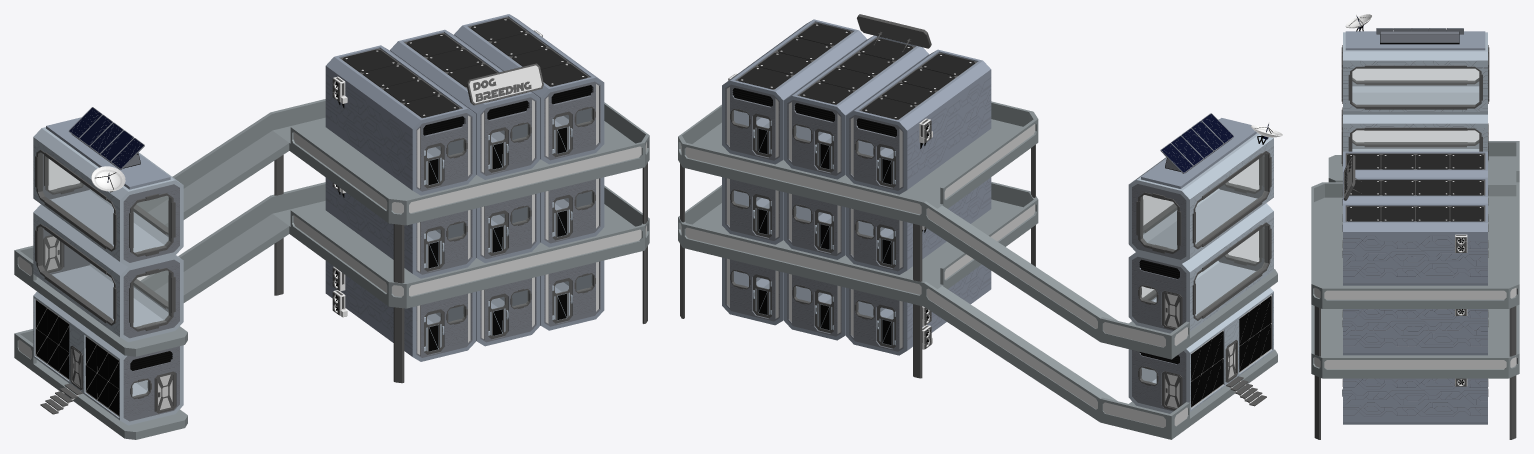
File: Breeding level 3.fbx
The picture shows the model from 3 angles, left to right: view 1: azimuth 30°, elevation 25°; view 2: azimuth 150°, elevation 25°; view 3: azimuth 270°, elevation 25°; orthographic projection. The views are drawn at different scales.
Parts seen in each view (by area): view 1: Breeding level 3, Breeding level 3.031, Breeding level 3.032, Breeding level 3.033, Breeding level 3.024, Breeding level 3.008, Breeding level 3.007, Breeding level 3.009, Breeding level 3.001, Breeding level 3.005, Breeding level 3.002, Breeding level 3.004 (+7 smaller); view 2: Breeding level 3, Breeding level 3.031, Breeding level 3.020, Breeding level 3.012, Breeding level 3.010, Breeding level 3.011, Breeding level 3.032, Breeding level 3.021, Breeding level 3.018, Breeding level 3.015, Breeding level 3.017, Breeding level 3.016 (+7 smaller); view 3: Breeding level 3, Breeding level 3.034, Breeding level 3.036, Breeding level 3.035, Breeding level 3.028, Breeding level 3.029.
Boxes of the visible parts, left/top/right/bottom form: Breeding level 3: left=14, top=14, right=649, bottom=439; Breeding level 3.031: left=325, top=66, right=412, bottom=190; Breeding level 3.032: left=325, top=177, right=412, bottom=273; Breeding level 3.033: left=325, top=261, right=412, bottom=356; Breeding level 3.024: left=123, top=346, right=179, bottom=421; Breeding level 3.008: left=480, top=97, right=536, bottom=175; Breeding level 3.007: left=416, top=113, right=472, bottom=191; Breeding level 3.009: left=544, top=81, right=600, bottom=160; Breeding level 3.001: left=416, top=292, right=472, bottom=357; Breeding level 3.005: left=480, top=194, right=536, bottom=258; Breeding level 3.002: left=480, top=277, right=536, bottom=342; Breeding level 3.004: left=416, top=209, right=472, bottom=274; Breeding level 3: left=678, top=14, right=1282, bottom=439; Breeding level 3.031: left=907, top=69, right=991, bottom=189; Breeding level 3.020: left=1132, top=256, right=1186, bottom=330; Breeding level 3.012: left=849, top=115, right=903, bottom=190; Breeding level 3.010: left=725, top=84, right=779, bottom=160; Breeding level 3.011: left=787, top=100, right=841, bottom=175; Breeding level 3.032: left=907, top=177, right=991, bottom=269; Breeding level 3.021: left=1132, top=350, right=1186, bottom=411; Breeding level 3.018: left=849, top=288, right=903, bottom=351; Breeding level 3.015: left=849, top=208, right=903, bottom=271; Breeding level 3.017: left=787, top=273, right=841, bottom=336; Breeding level 3.016: left=725, top=258, right=779, bottom=321; Breeding level 3: left=1311, top=14, right=1519, bottom=439; Breeding level 3.034: left=1343, top=232, right=1487, bottom=283; Breeding level 3.036: left=1343, top=378, right=1487, bottom=422; Breeding level 3.035: left=1343, top=309, right=1487, bottom=352; Breeding level 3.028: left=1343, top=60, right=1487, bottom=111; Breeding level 3.029: left=1343, top=123, right=1487, bottom=151.
Bounding box in the file's own units: 1034 × 478 × 409.
Materials: 65 (36 with a texture image).
